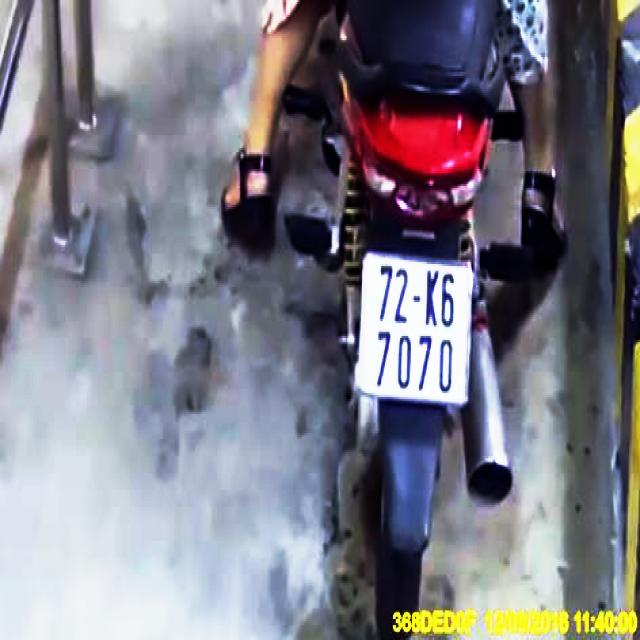license_plate: (359, 255, 473, 398)
